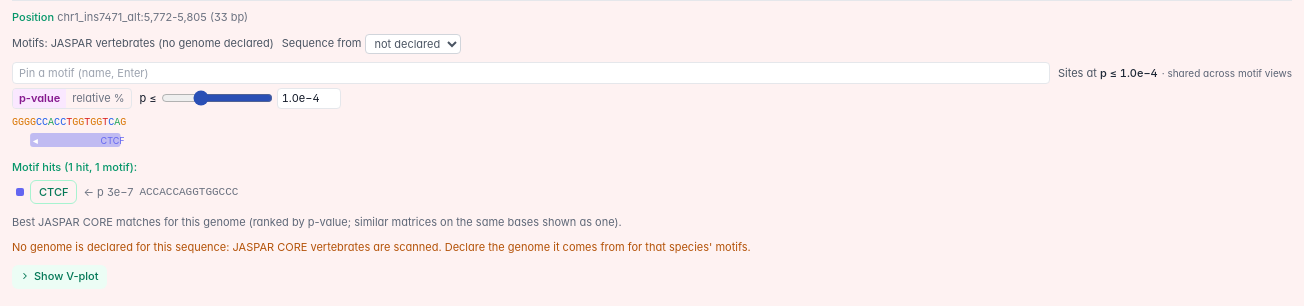
Class card motifs on an expanded insert or a custom FASTA › a failed declaration says why
Select "mm10" in the dropdown labelled "Sequence from" at {"x": 414, "y": 44}, box [366,34,462,54]
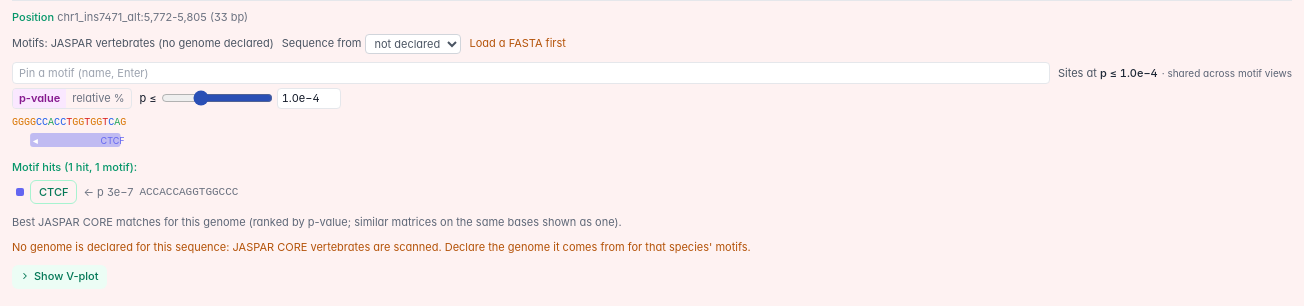
Expected: the message "Load a FASTA first" is shown, [470,35,566,52]
